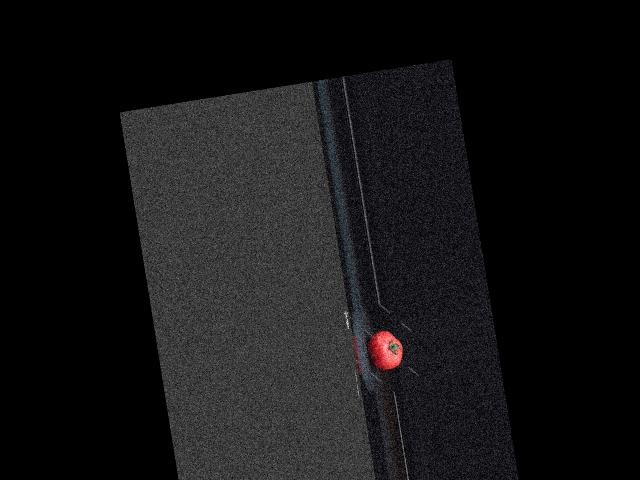tomato: (365, 328, 405, 372)
